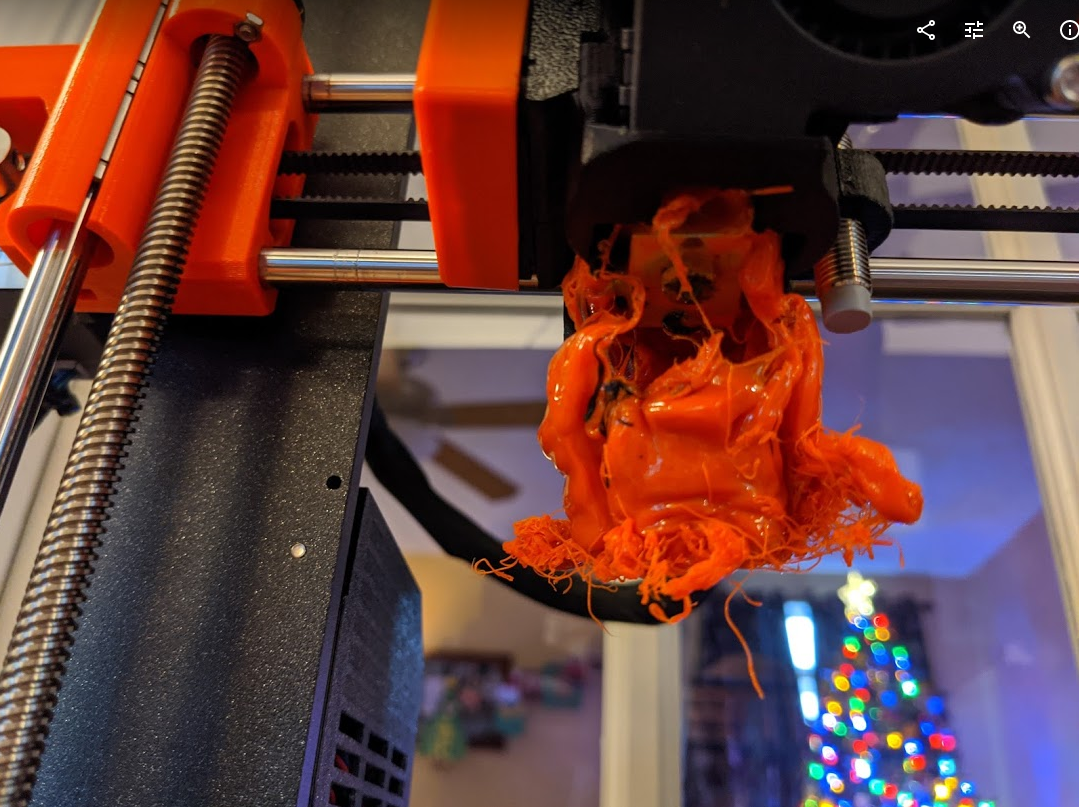Spaghetti: (505, 497, 914, 605), (645, 218, 734, 375)
